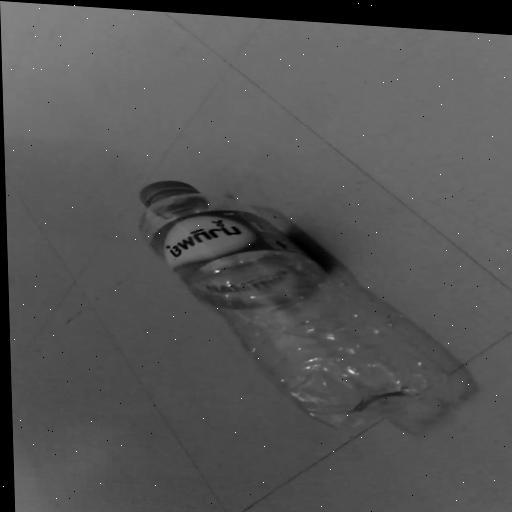bottle: (118, 157, 468, 447)
